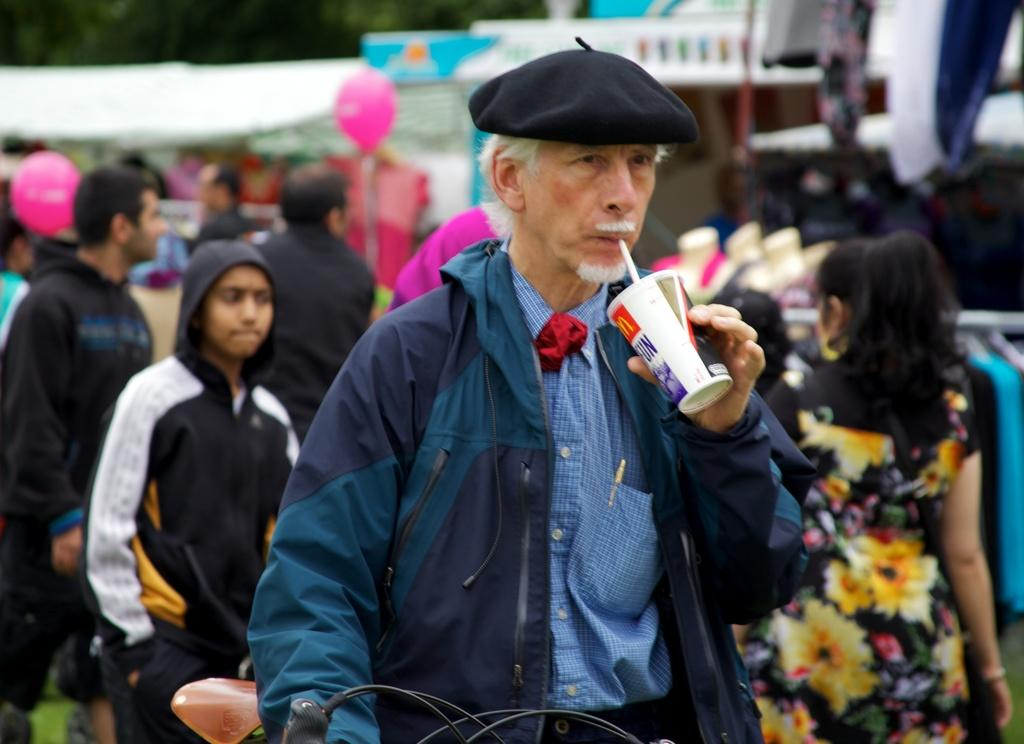Hat: (466, 36, 698, 150)
